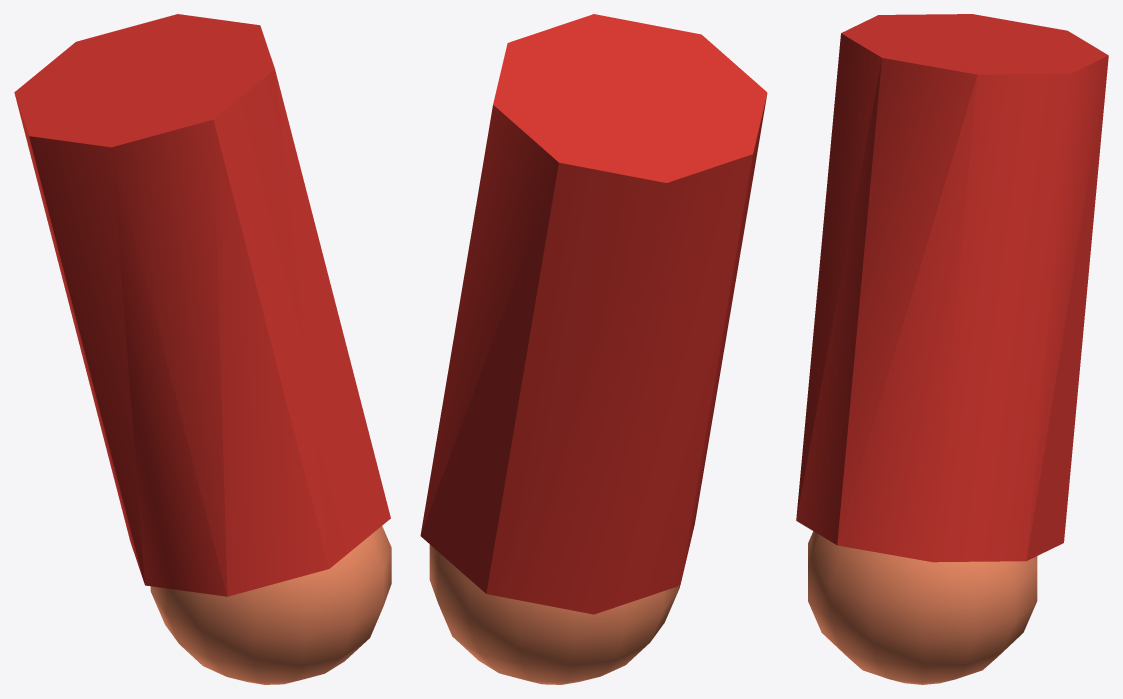
File: RightArm.glb
The picture shows the model from 3 angles, left to right: view 1: azimuth 30°, elevation 25°; view 2: azimuth 150°, elevation 25°; view 3: azimuth 270°, elevation 25°; orthographic projection. The views are drawn at different scales.
Visible parts, largest first — view 1: sleeve, mitten; view 2: sleeve, mitten; view 3: sleeve, mitten.
Part boxes in pixels (x1,y1,x2,y2): sleeve: [14, 14, 390, 596]; mitten: [150, 526, 391, 684]; sleeve: [420, 14, 767, 614]; mitten: [429, 544, 679, 684]; sleeve: [796, 14, 1108, 562]; mitten: [808, 531, 1037, 684].
Size of the model in its own units: 0.9842 by 1.8 by 0.837.
